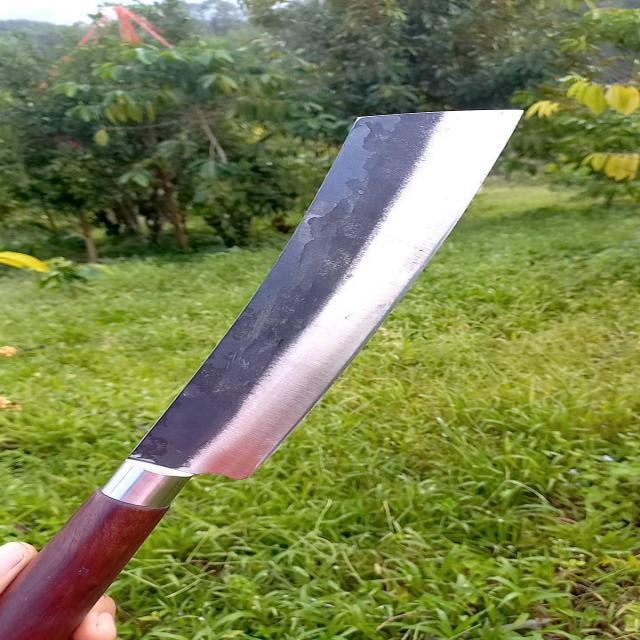eto: (0, 106, 545, 639)
